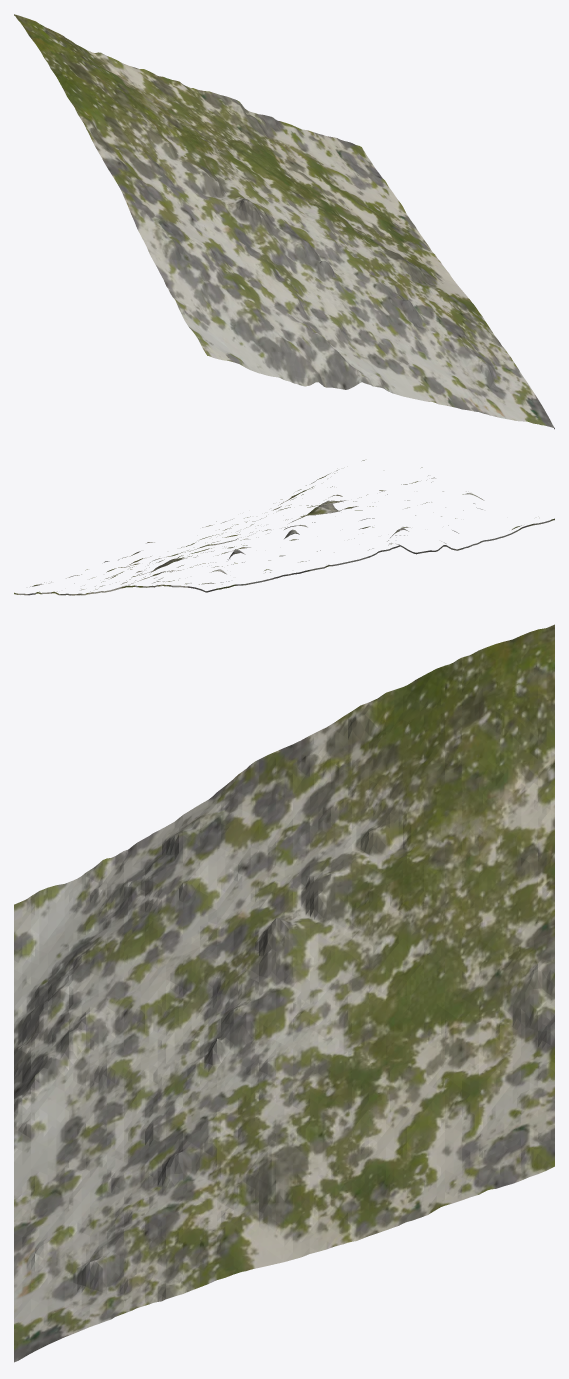
3 renders of one model, top to bottom at view 1: azimuth 30°, elevation 25°; view 2: azimuth 150°, elevation 25°; view 3: azimuth 270°, elevation 25°, orthographic. The views are drawn at different scales.
Bounding box in the file's own units: 250 × 247 × 241.
Materials: 1 (1 with a texture image).
